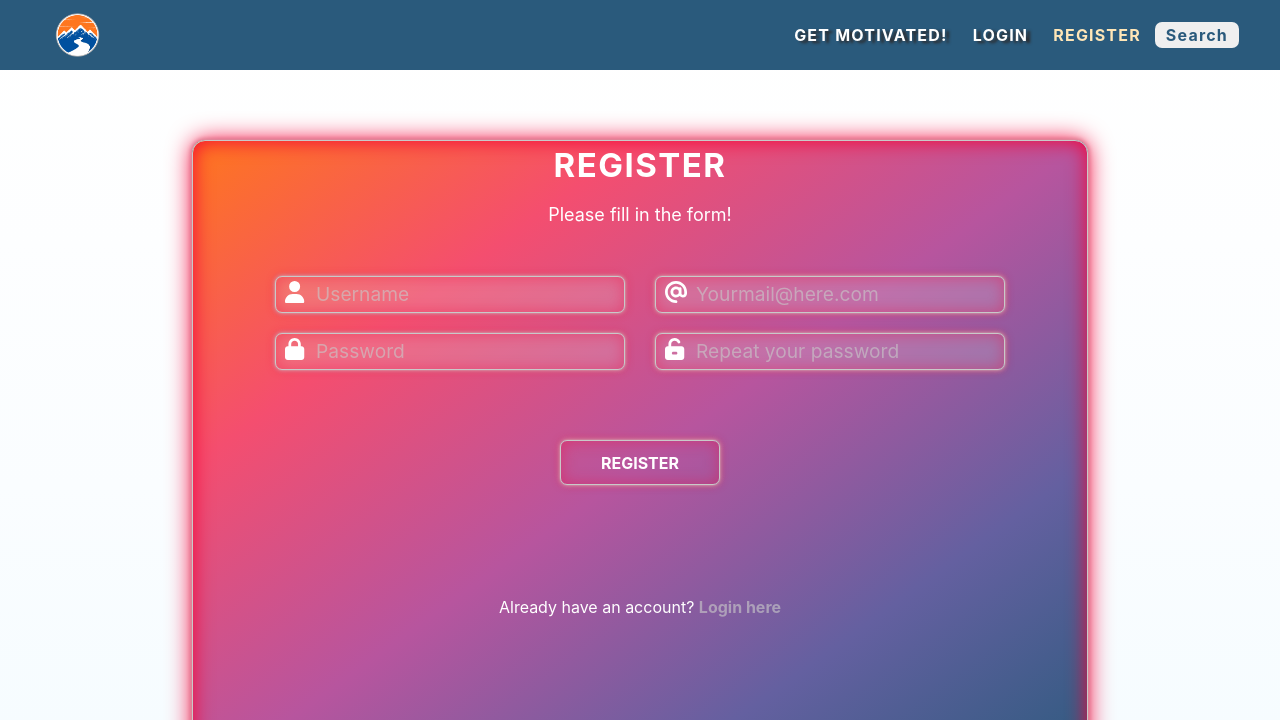
Test: Register Page Unhappy Paths › Show input validation errors on blur › email validation error with invalid email #1
Type "notanemail" into the field with placeholder "Yourmail@here.com". click: (830, 295)
box: left=655, top=276, right=1005, bottom=313
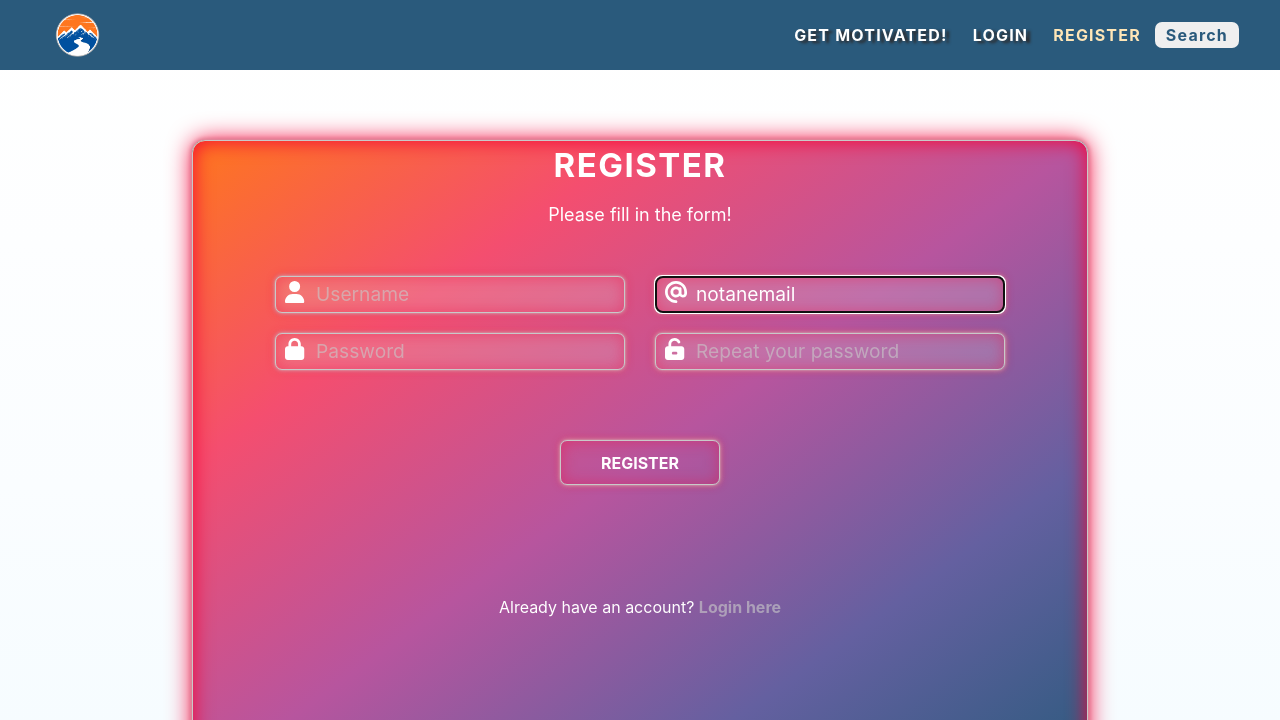
Leave the 2nd field, box left=655, top=276, right=1005, bottom=313
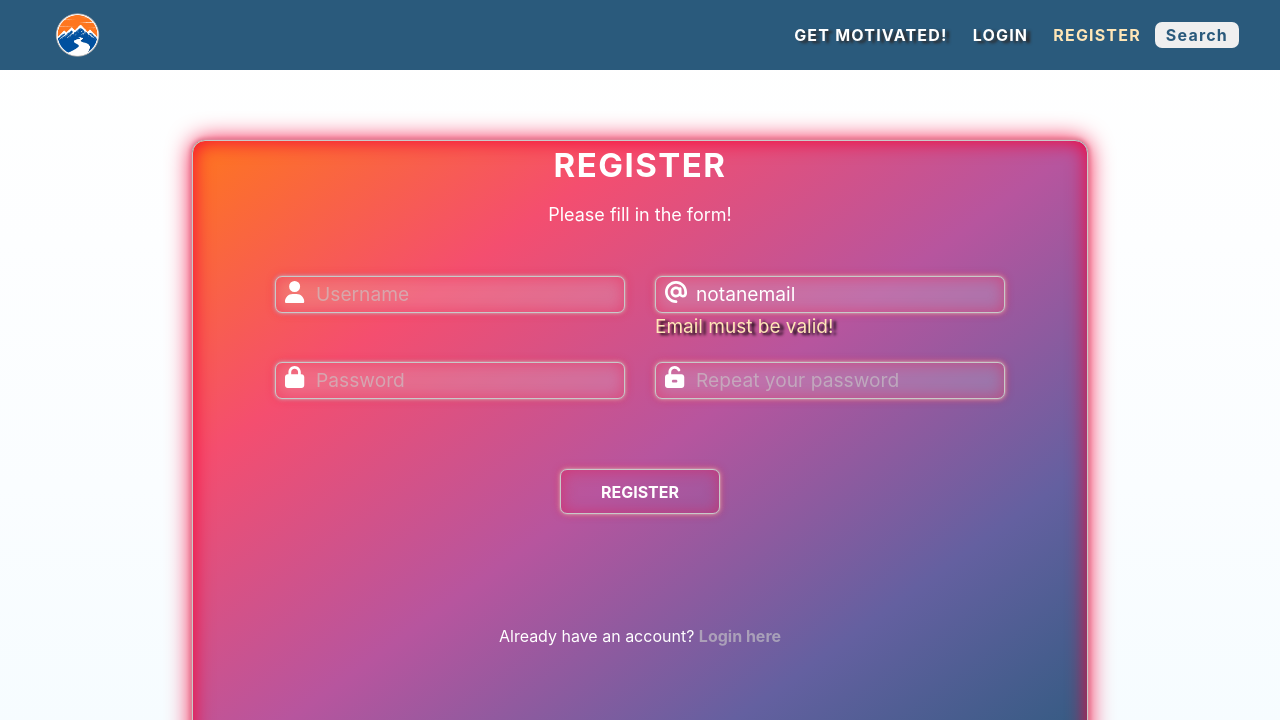
Now the text "Email must be valid!" is shown, box left=655, top=315, right=833, bottom=338
